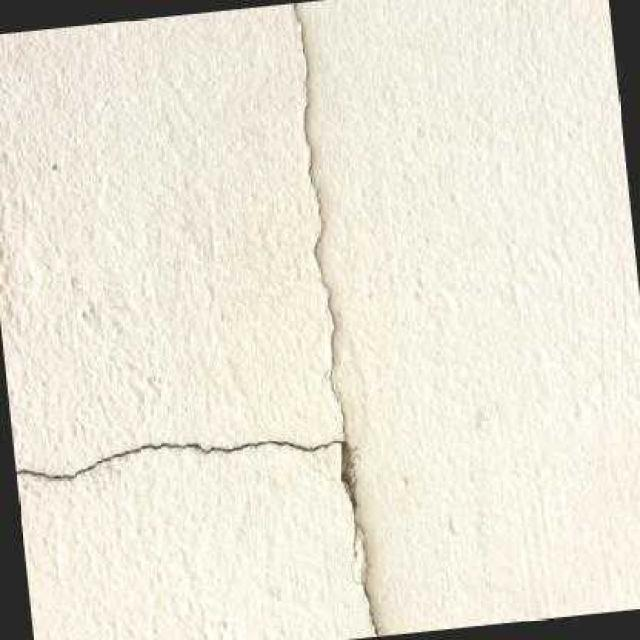D00: (14, 1, 376, 634)
